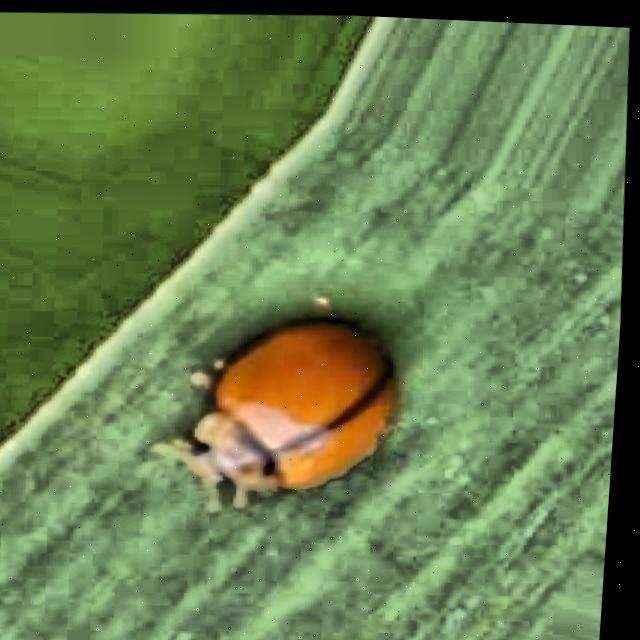Ladybug: (98, 259, 535, 539)
